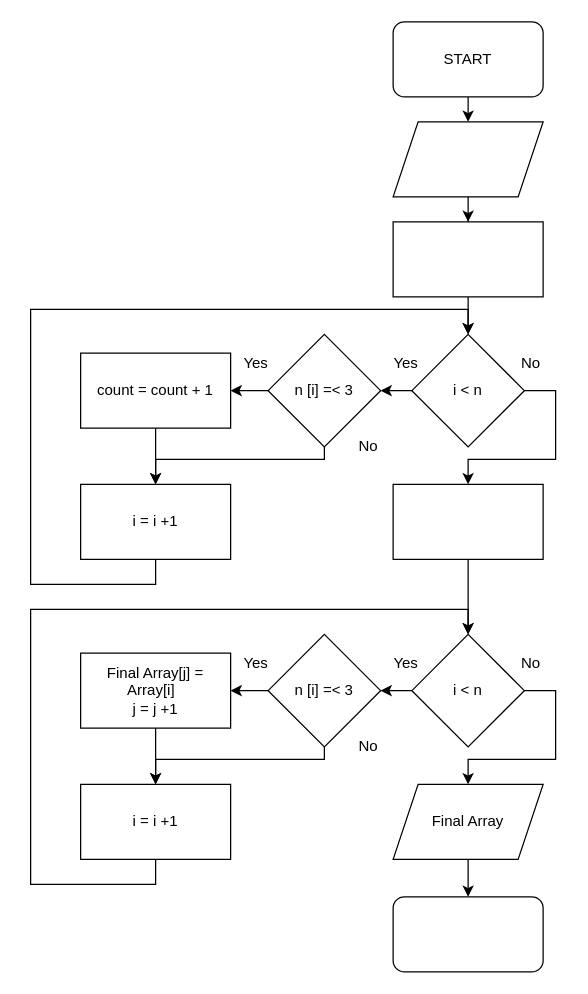
The diagram is 588 pixels wide and 994 high, and some of its shapes have lost their labels. The box of each missing label's shape, as (x1, y1, x2, y2) in pixels:
Array (String) i, j, n, count: (392, 121, 543, 197)
END: (392, 896, 543, 972)
i = 0 count = 0 n = array length: (392, 221, 543, 297)
New Array j, i = 0 n = array length: (392, 483, 543, 559)
